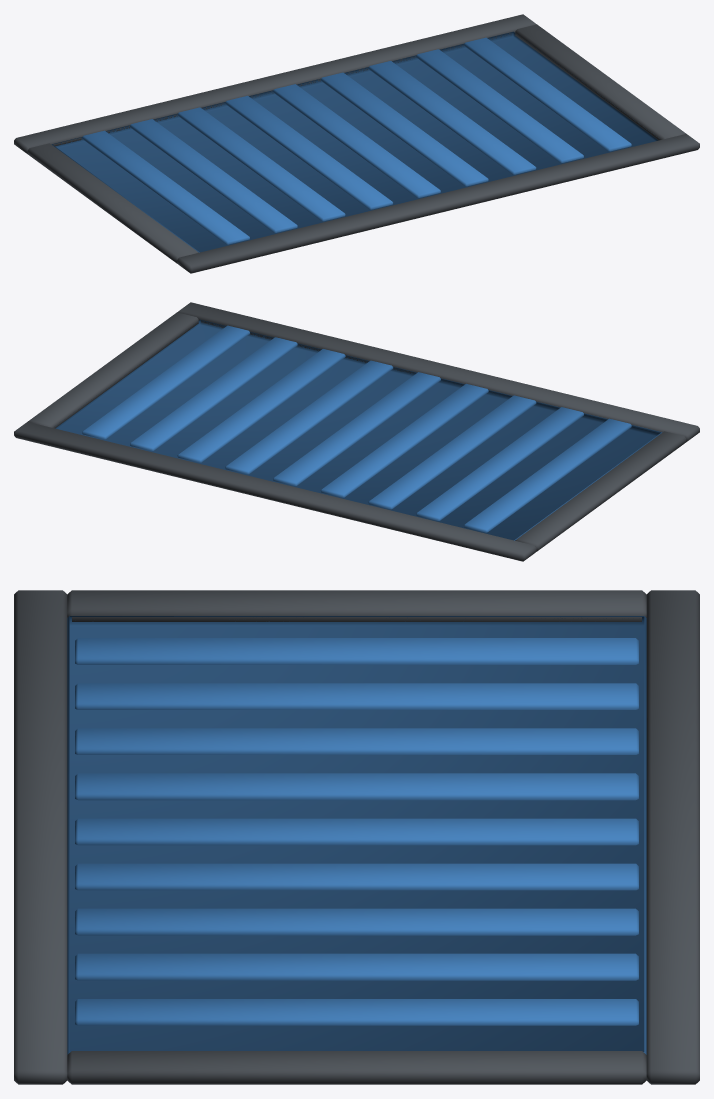
File: SM_Mat_Entrance_01.glb
The picture shows the model from 3 angles, top to bottom: view 1: azimuth 30°, elevation 25°; view 2: azimuth 150°, elevation 25°; view 3: azimuth 270°, elevation 25°; orthographic projection. The views are drawn at different scales.
Visible parts, largest first — view 1: SM_Mat_Entrance_01; view 2: SM_Mat_Entrance_01; view 3: SM_Mat_Entrance_01.
Boxes of the visible parts, bbox=[...] form: SM_Mat_Entrance_01: bbox=[14, 14, 699, 273]; SM_Mat_Entrance_01: bbox=[14, 302, 699, 561]; SM_Mat_Entrance_01: bbox=[14, 590, 699, 1084].
Bounding box in the file's own units: 1.5 × 0.024 × 0.9.
Materials: 1 (1 with a texture image).
